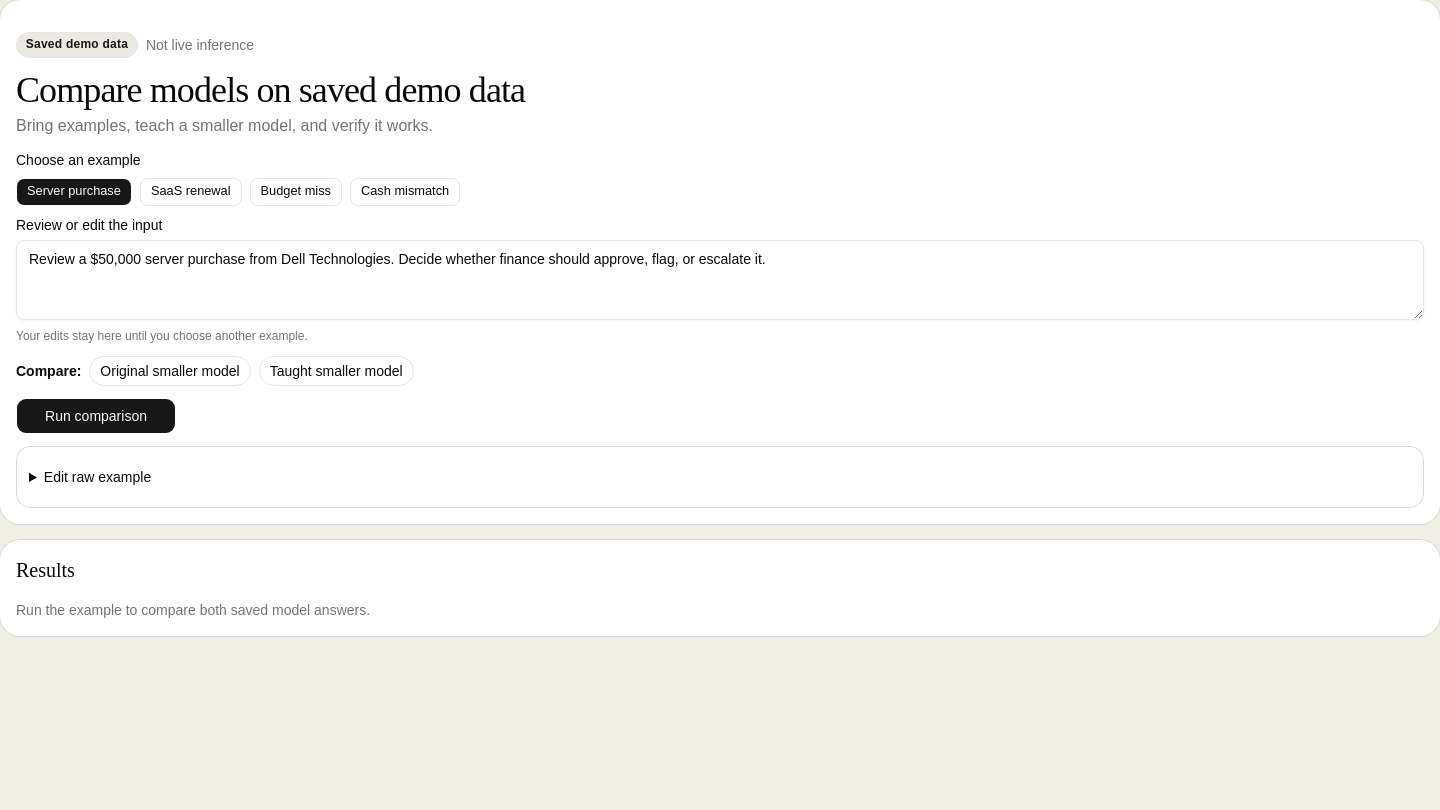
Test: demo playground interactions › compares the original and taught saved-data arms
The image size is (1440, 810).
Click the button with test id "demo-run". click: coordinates (96, 416)
box: x1=16 y1=398 x2=176 y2=434
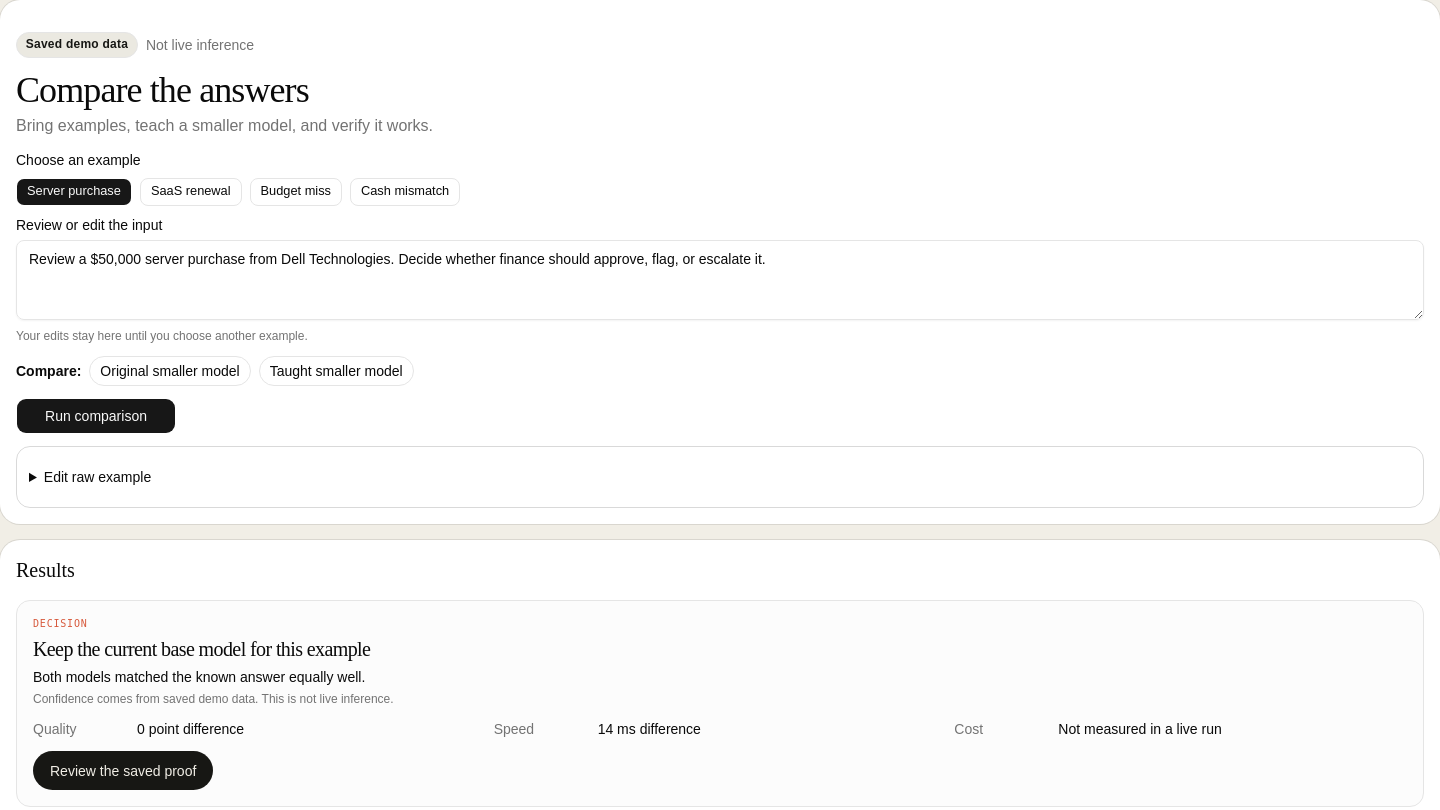
Result: the element with test id "demo-decision" is shown at x1=16 y1=600 x2=1424 y2=807
Result: the link "Review the saved proof" is shown at x1=33 y1=751 x2=213 y2=790
